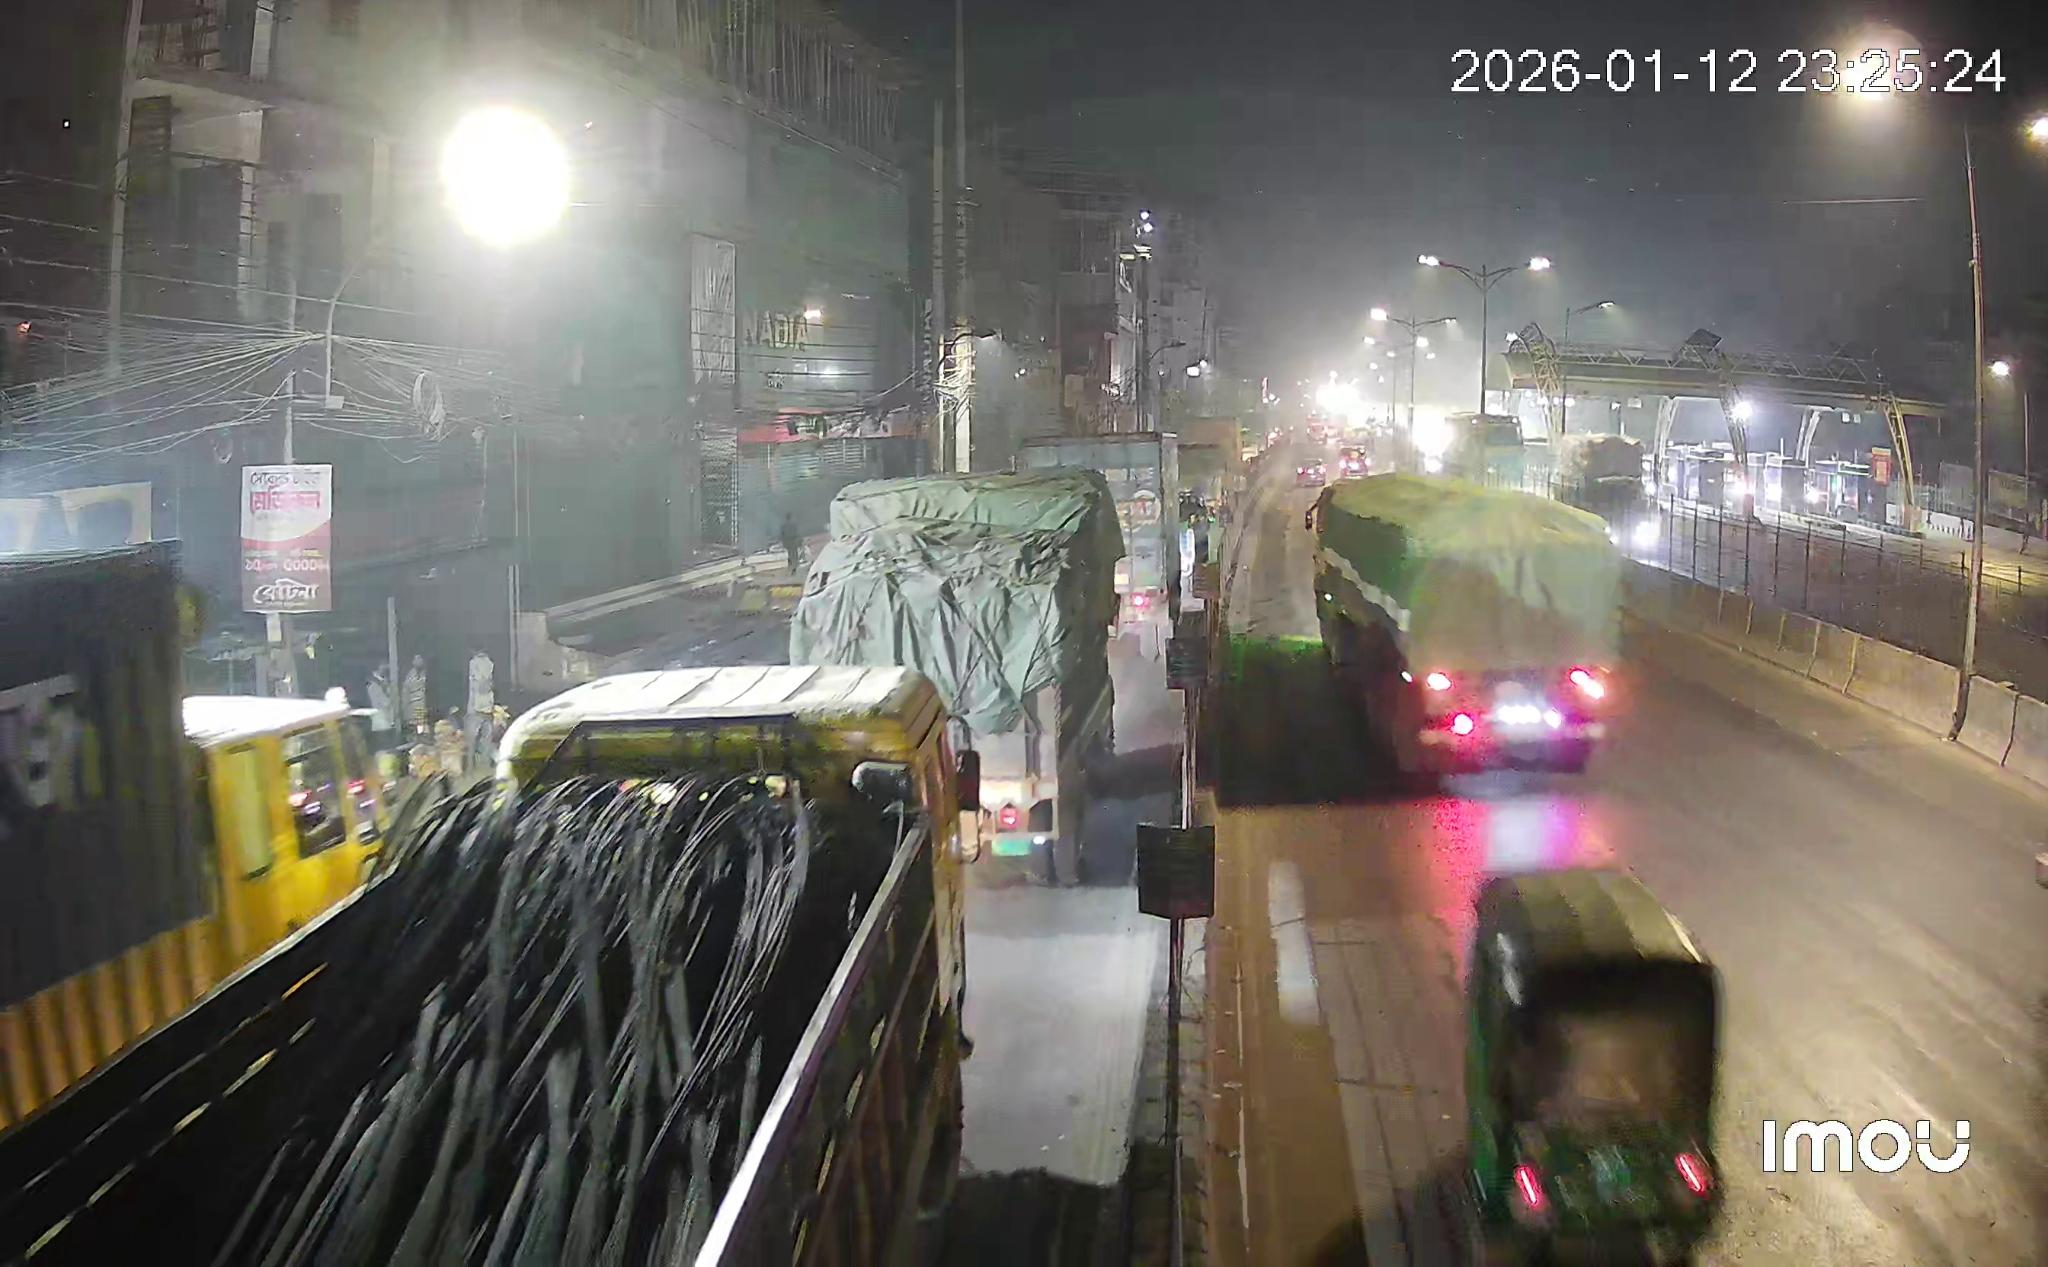CNG-Tempo: (1461, 869, 1723, 1267)
Truck: (0, 667, 980, 1267), (0, 540, 391, 1140), (790, 467, 1123, 885), (1302, 473, 1624, 774), (1020, 432, 1185, 651), (1554, 435, 1641, 519)
